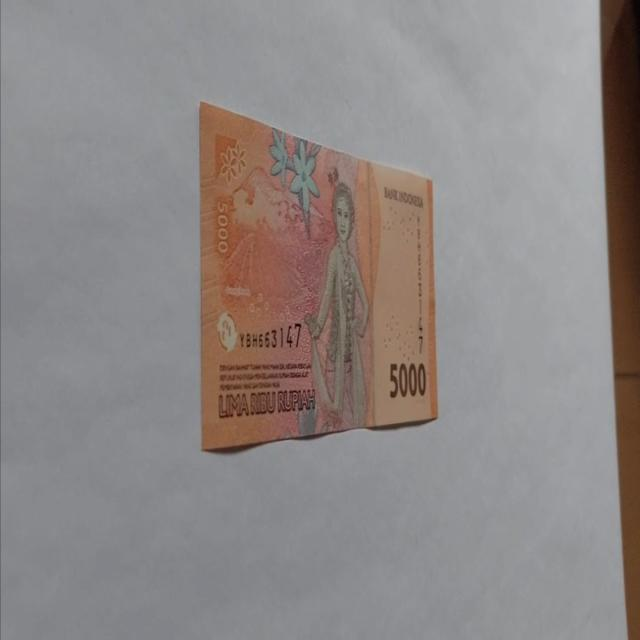lima ribu rupiah: (198, 100, 438, 452), (302, 180, 370, 433)
